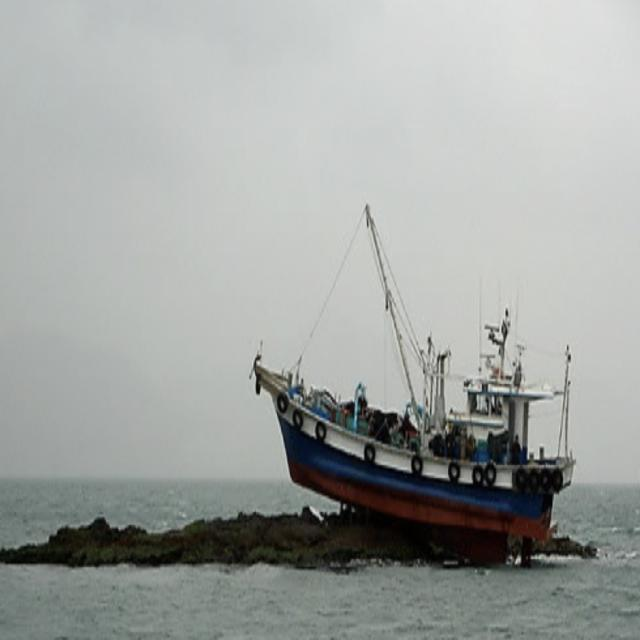Ship: (249, 174, 588, 587)
